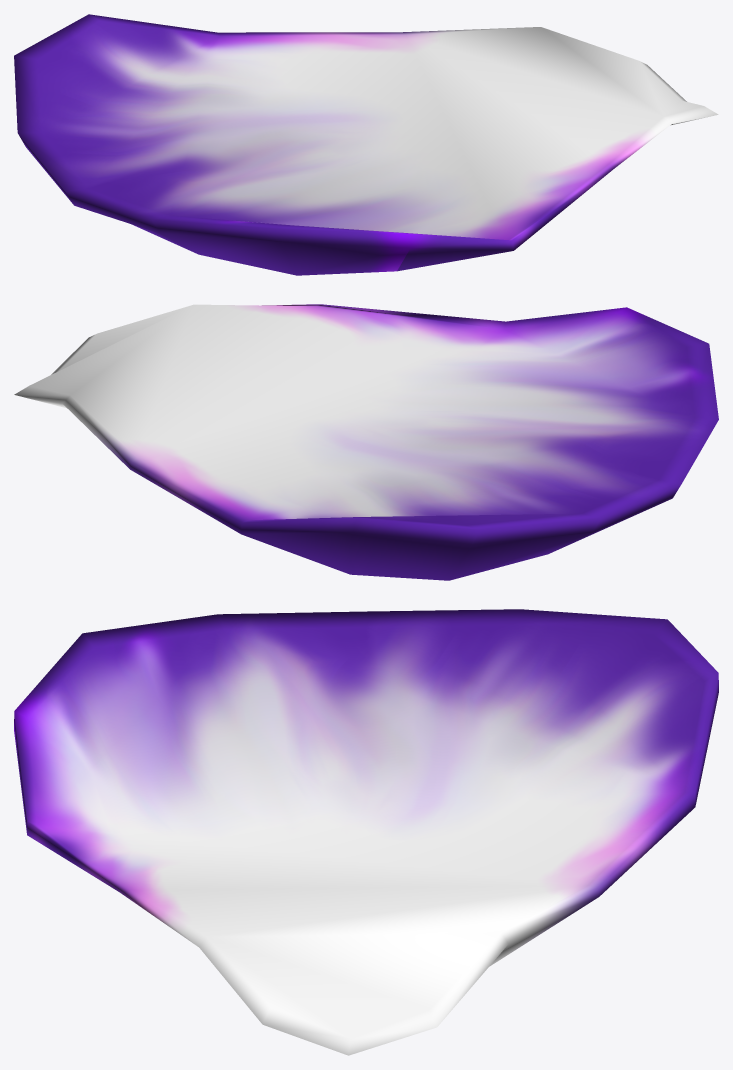
Rendered from EV_withCollider_edited.glb.
The picture shows the model from 3 angles, top to bottom: view 1: azimuth 30°, elevation 25°; view 2: azimuth 150°, elevation 25°; view 3: azimuth 270°, elevation 25°; orthographic projection. The views are drawn at different scales.
Parts seen in each view (by area): view 1: EV; view 2: EV; view 3: EV.
Part boxes in pixels (x1,y1,x2,y2): EV: (14,14,718,275); EV: (14,304,718,580); EV: (14,609,718,1055).
Size of what is drawn, in the model's own units: 4.32 by 0.6163 by 3.48.
Materials: 1 (1 with a texture image).
